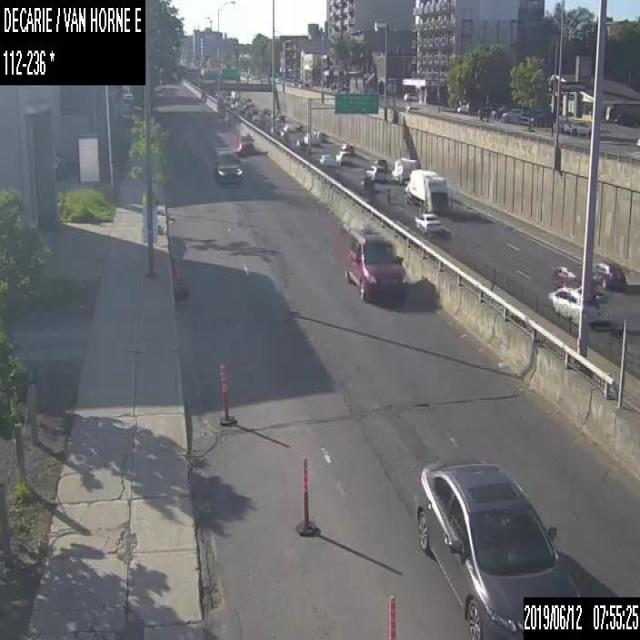construction: (296, 456, 319, 536), (217, 363, 234, 424), (386, 594, 396, 638)
vehicle: (415, 456, 581, 639), (345, 230, 407, 302), (403, 168, 448, 214), (547, 285, 581, 323), (213, 147, 240, 184), (593, 261, 625, 289), (552, 263, 582, 288), (390, 158, 417, 185), (413, 212, 440, 234), (234, 130, 254, 155), (563, 120, 590, 136), (364, 164, 386, 182), (501, 108, 523, 122), (334, 149, 349, 164), (358, 175, 373, 190), (489, 105, 505, 118), (292, 133, 306, 146), (319, 153, 331, 166), (371, 158, 386, 168), (341, 142, 353, 154), (403, 92, 417, 101), (317, 131, 328, 141), (311, 127, 319, 137), (386, 186, 390, 202)
